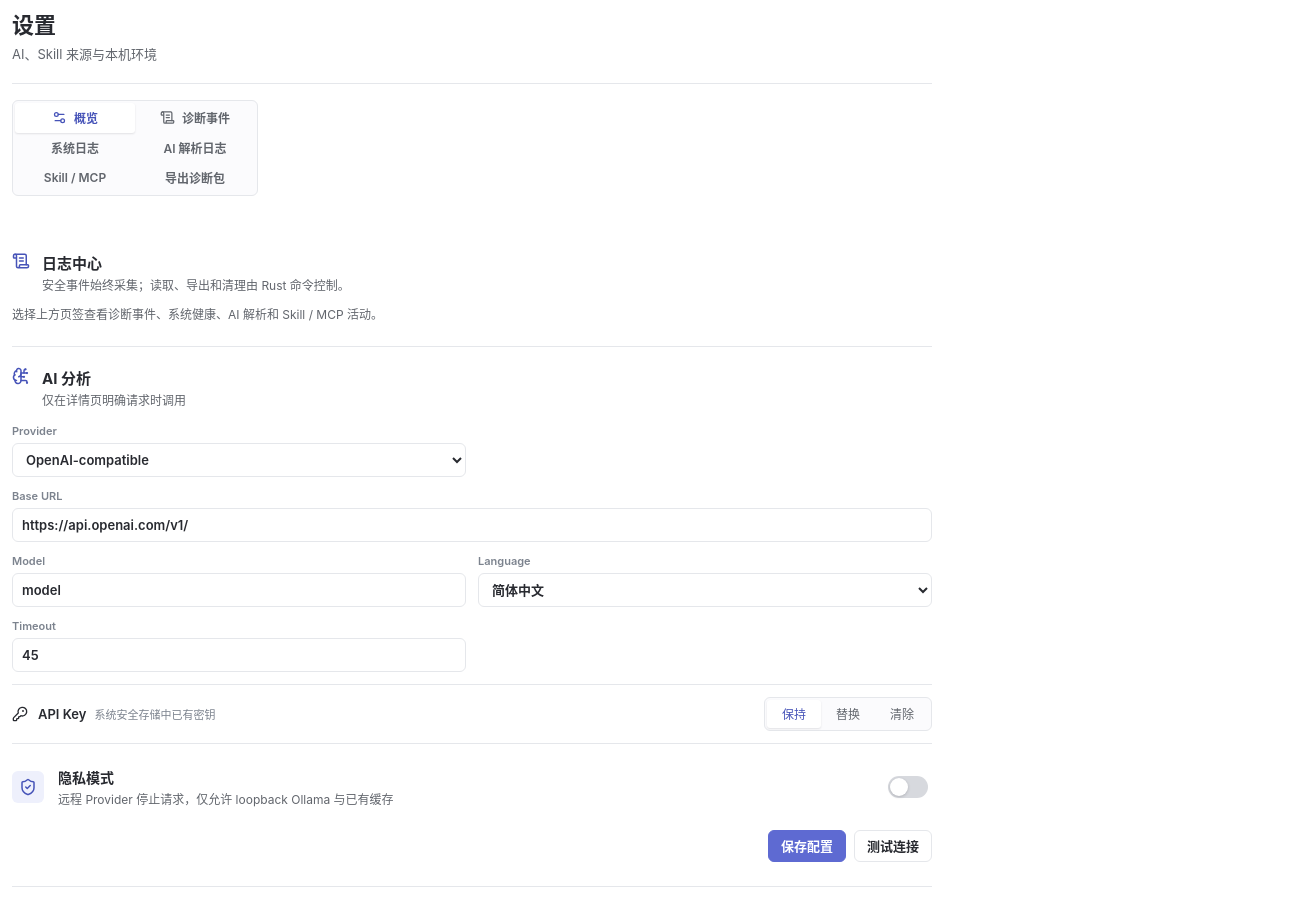
SettingsPage › tests only an already saved AI configuration
This screenshot has width=1292, height=907.
Click the button "测试连接": [893, 846] box [854,830,932,862]
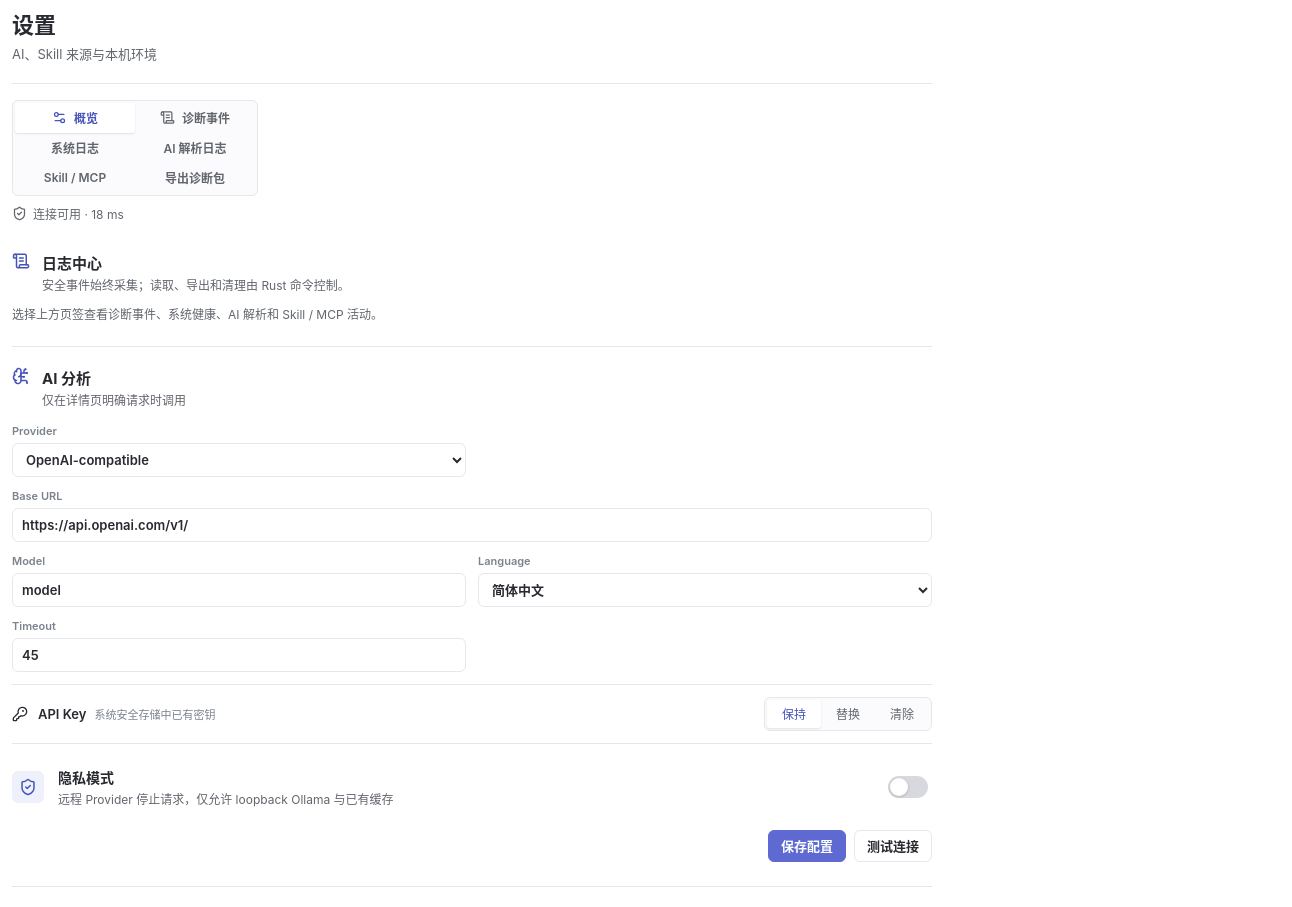
expect the text "连接可用 · 18 ms" is shown: met, box [33,205,124,222]
